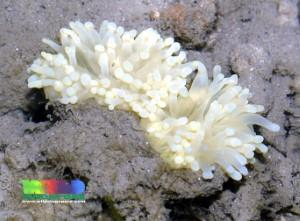bleached_corals: (24, 8, 207, 127)
